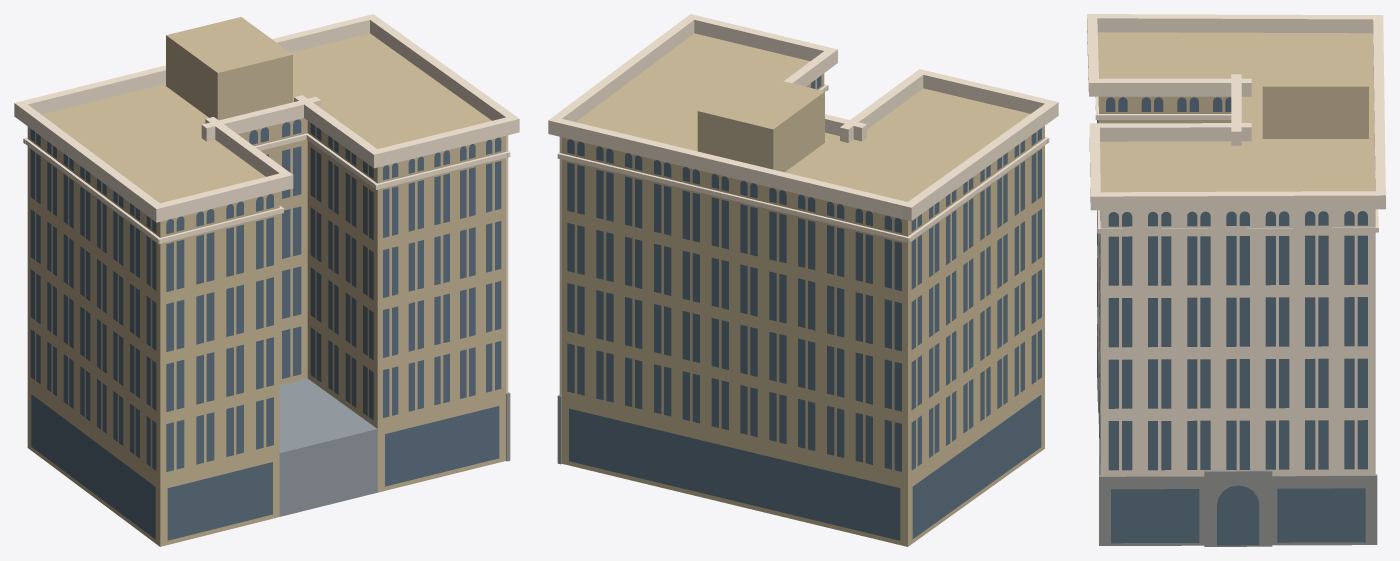
The model's file is slc-kearns-building.glb.
3 renders of one model, left to right at view 1: azimuth 30°, elevation 25°; view 2: azimuth 150°, elevation 25°; view 3: azimuth 270°, elevation 25°, orthographic. The views are drawn at different scales.
Visible parts, largest first — view 1: Kearns Building; view 2: Kearns Building; view 3: Kearns Building.
Part boxes in pixels (box(x1,y1,x2,y2)): Kearns Building: box(14, 14, 519, 546); Kearns Building: box(548, 14, 1058, 546); Kearns Building: box(1087, 14, 1385, 546).
Bounding box in the file's own units: 50.92 × 50.8 × 35.23.
